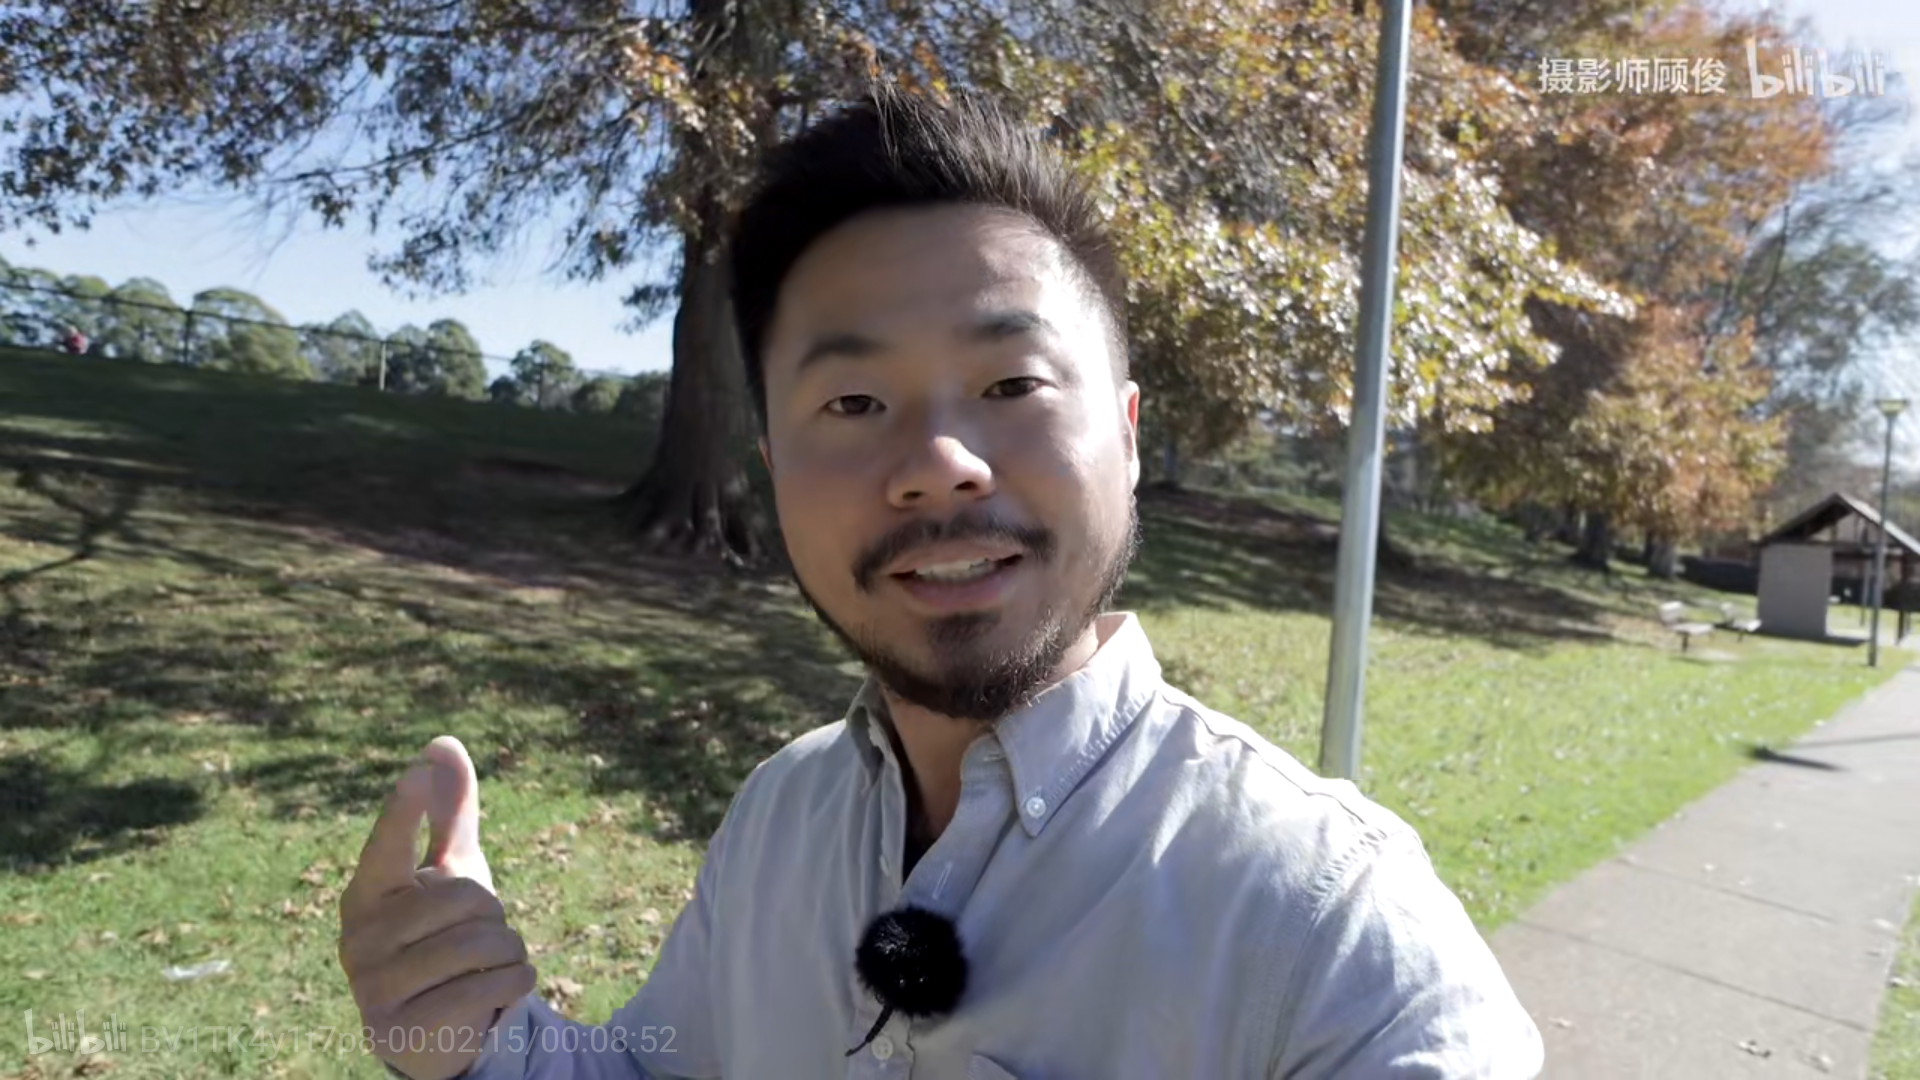noWear: (760, 297, 1142, 717)
